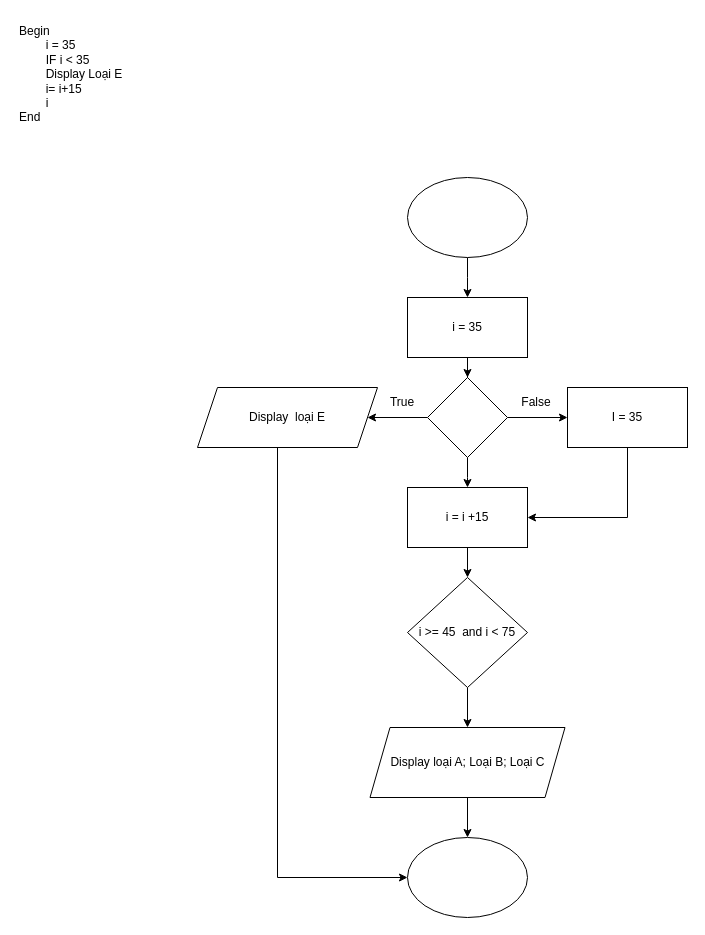
Image size: 705x935. Some labels were removed from this diagram. The shapes that lost their labels are listed below. From the top down, each one's centre as x and y in pixels, then its label:
the point at 467,217: Begin
the point at 467,417: i < 35
the point at 467,877: End
